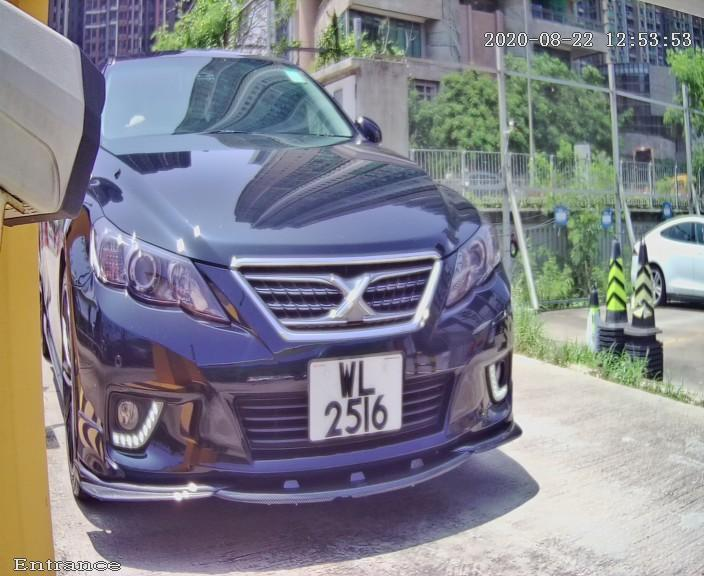Car: (19, 3, 541, 566)
License Plate: (299, 343, 409, 456)
